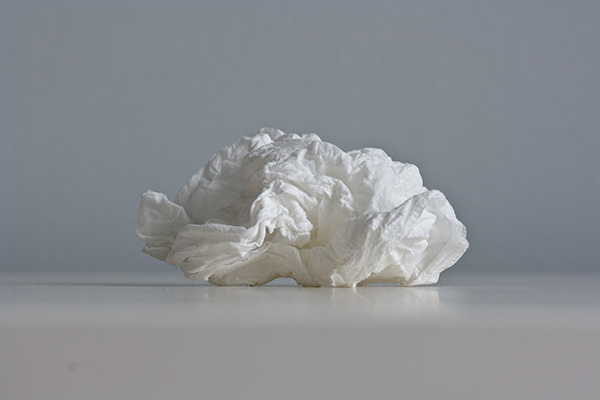Tissue: (130, 125, 473, 292)
